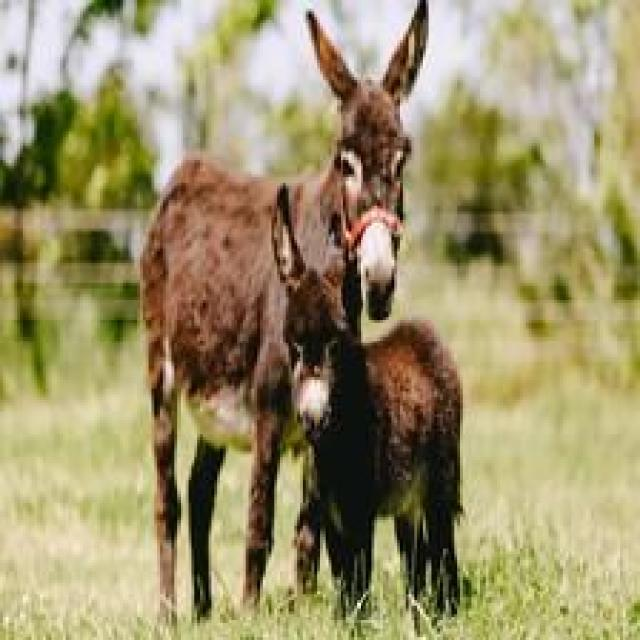Donkey: (137, 0, 429, 626), (268, 183, 463, 623)
